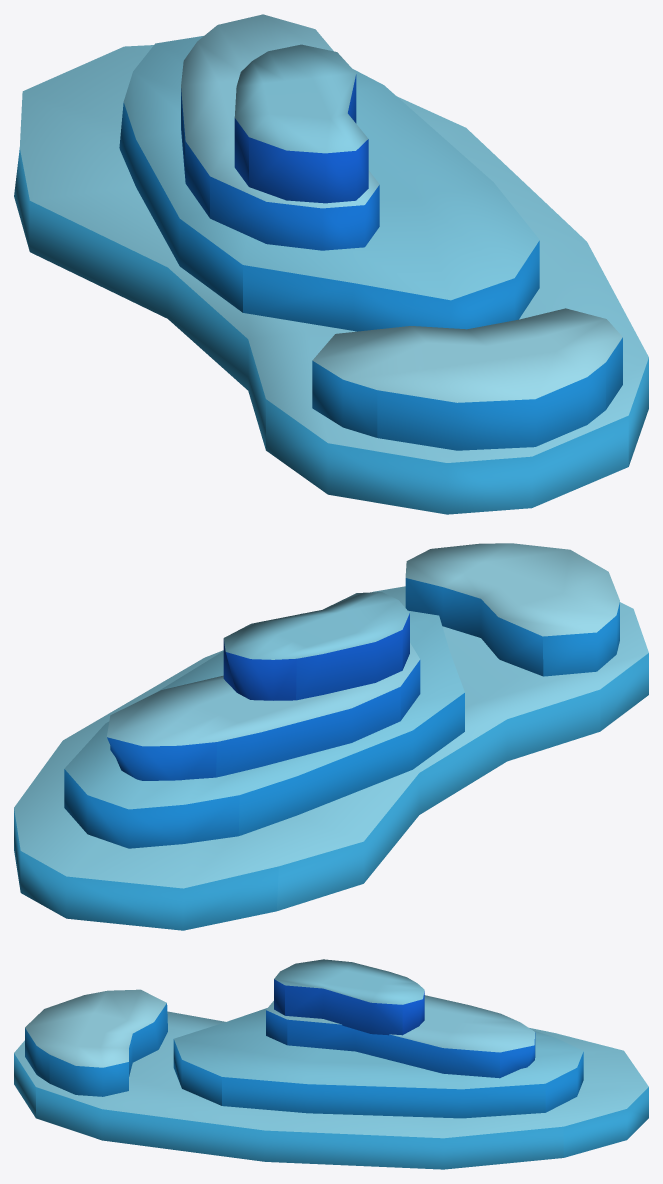
The model's file is SM_IP_Hill_02.fbx.
3 views of the same model, one above another, from view 1: azimuth 30°, elevation 25°; view 2: azimuth 150°, elevation 25°; view 3: azimuth 270°, elevation 25° (orthographic). The views are drawn at different scales.
Visible parts, largest first — view 1: pCube448; view 2: pCube448; view 3: pCube448.
Part boxes in pixels (box(x1,y1,x2,y2)): pCube448: box(14, 14, 648, 514); pCube448: box(14, 543, 648, 930); pCube448: box(14, 959, 648, 1169).
Bounding box in the file's own units: 174 × 74.41 × 368.
